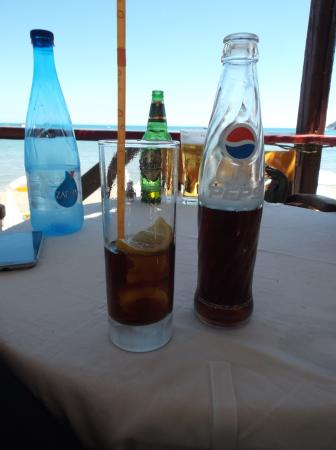pepsi: (223, 123, 256, 157)
